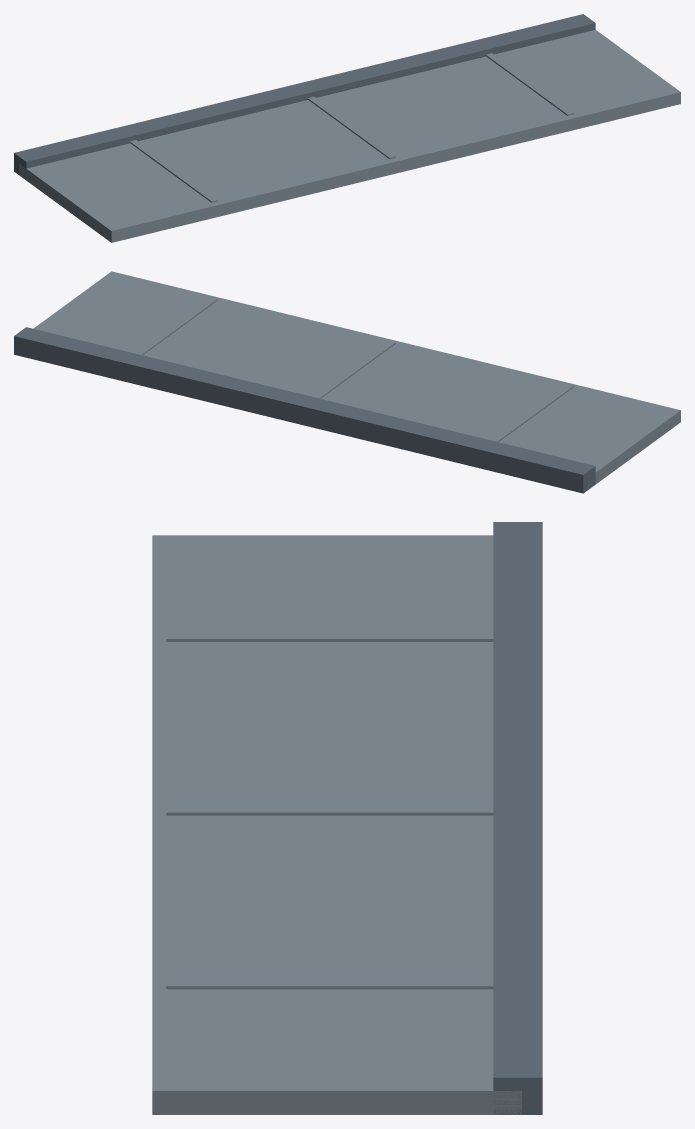
The model's file is la-city-sidewalk-curb.glb.
3 renders of one model, top to bottom at view 1: azimuth 30°, elevation 25°; view 2: azimuth 150°, elevation 25°; view 3: azimuth 270°, elevation 25°, orthographic. The views are drawn at different scales.
Parts seen in each view (by area): view 1: la-city-sidewalk-curb; view 2: la-city-sidewalk-curb; view 3: la-city-sidewalk-curb.
Boxes of the visible parts, x1,y1,x2,y2 form: la-city-sidewalk-curb: [14, 14, 680, 242]; la-city-sidewalk-curb: [14, 271, 680, 493]; la-city-sidewalk-curb: [152, 522, 542, 1114].
Bounding box in the file's own units: 8 × 0.25 × 2.38.
